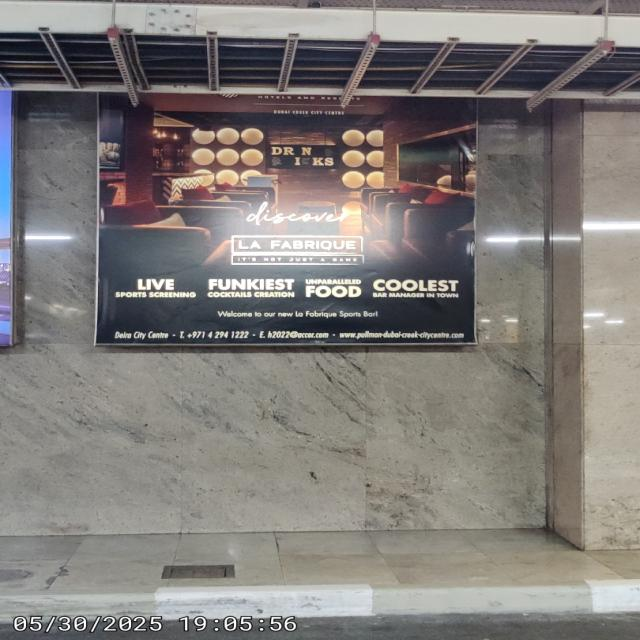poster: (94, 94, 480, 346)
